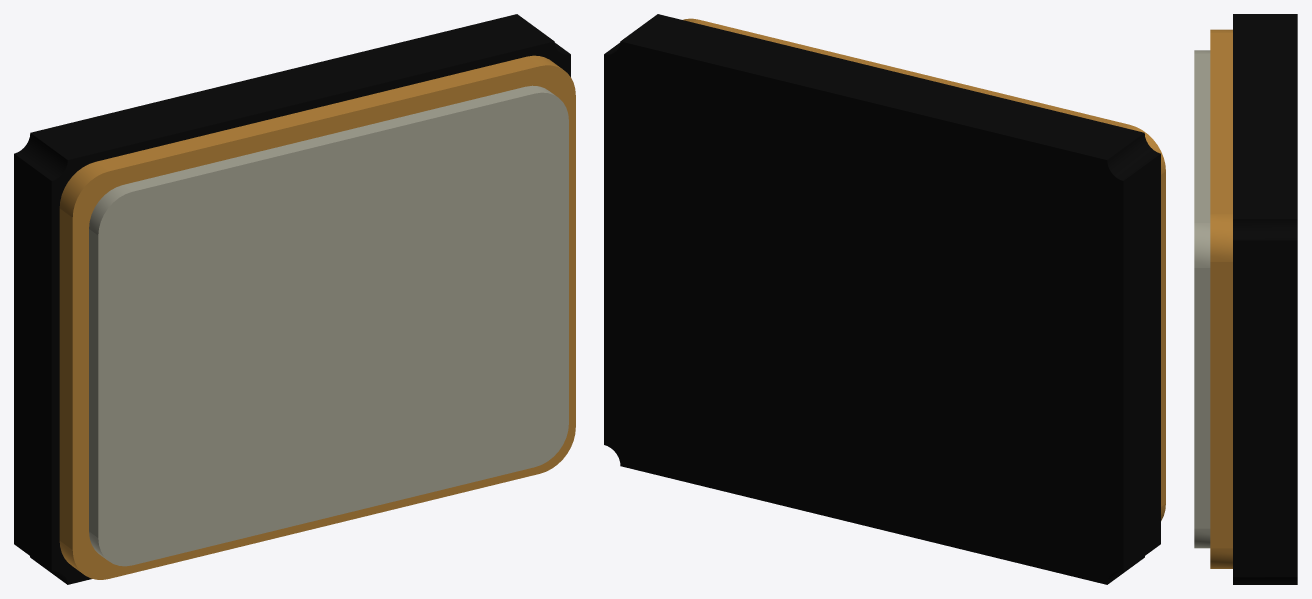
Rendered from crystal_smd_3225-4pin_3.2x2.5mm.glb.
3 views of the same model, side by side, from view 1: azimuth 30°, elevation 25°; view 2: azimuth 150°, elevation 25°; view 3: azimuth 270°, elevation 25° (orthographic). The views are drawn at different scales.
Parts seen in each view (by area): view 1: Crystal_SMD_3225-4Pin_3.2x2.5mm; view 2: Crystal_SMD_3225-4Pin_3.2x2.5mm; view 3: Crystal_SMD_3225-4Pin_3.2x2.5mm.
Part boxes in pixels (bbox=[...]): Crystal_SMD_3225-4Pin_3.2x2.5mm: bbox=[14, 14, 575, 584]; Crystal_SMD_3225-4Pin_3.2x2.5mm: bbox=[604, 14, 1165, 584]; Crystal_SMD_3225-4Pin_3.2x2.5mm: bbox=[1194, 14, 1297, 584].
Size of the model in its own units: 3.2 by 2.5 by 0.64.
